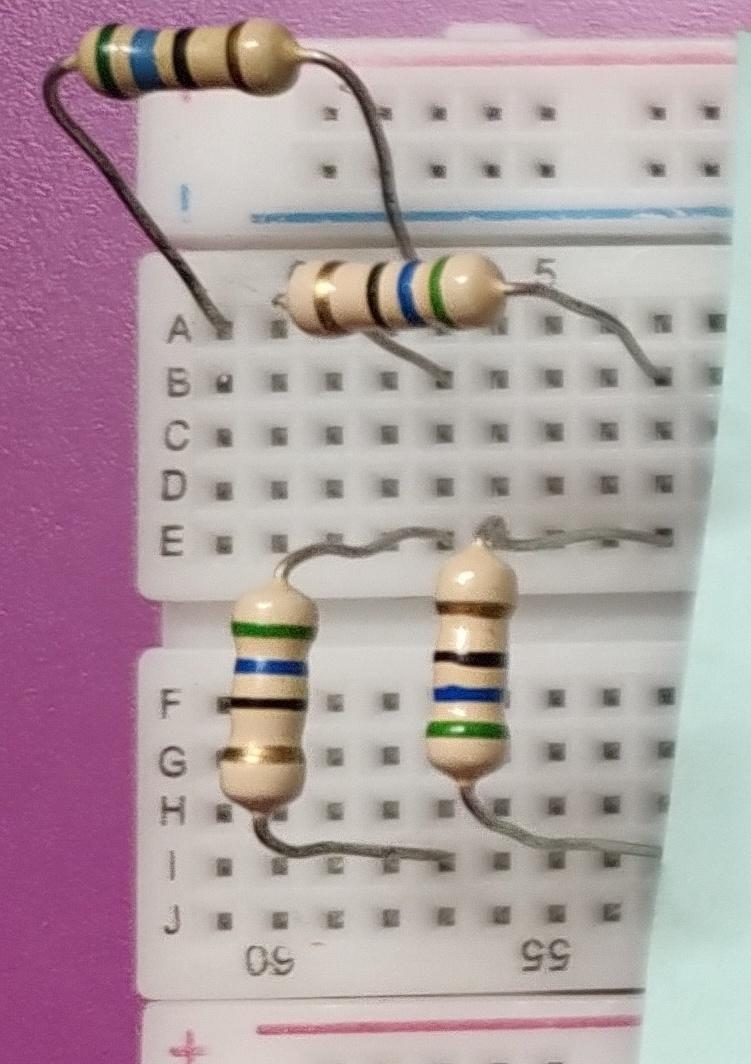resistor: (205, 573, 320, 816), (415, 531, 520, 787), (263, 249, 519, 343), (69, 15, 307, 105)
